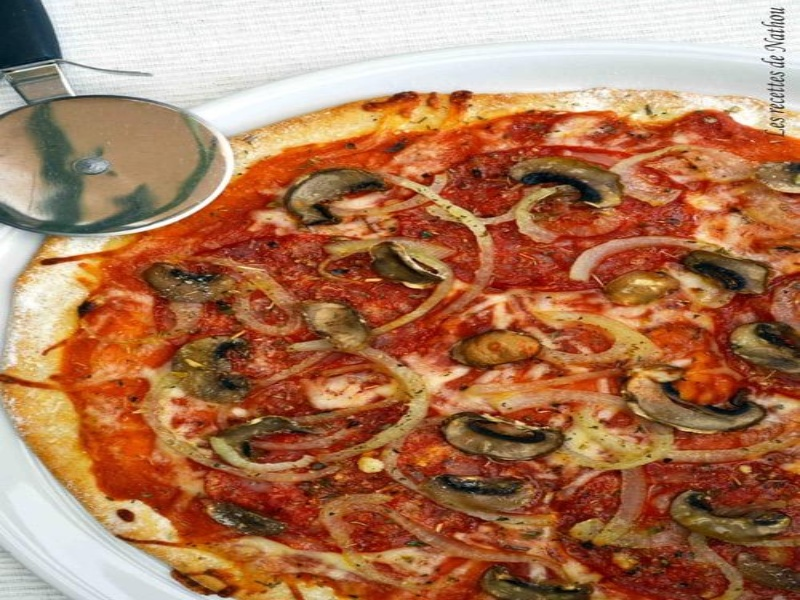champignon: (433, 405, 571, 467), (167, 331, 268, 407)
